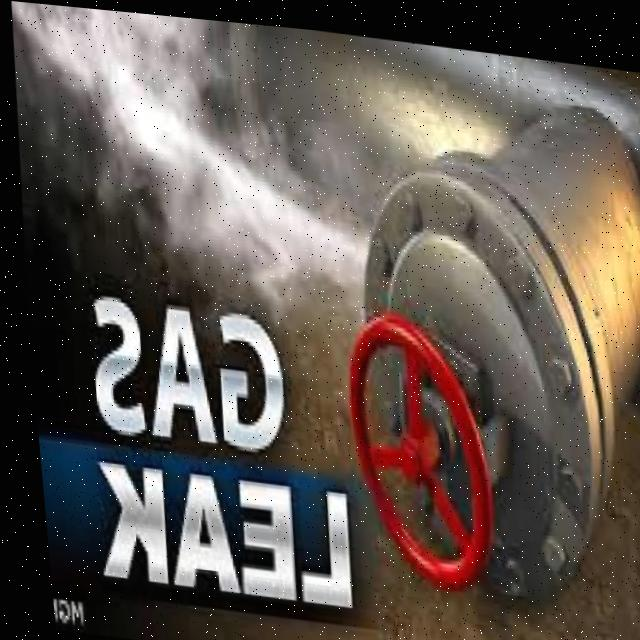corrosion: (126, 25, 509, 584)
